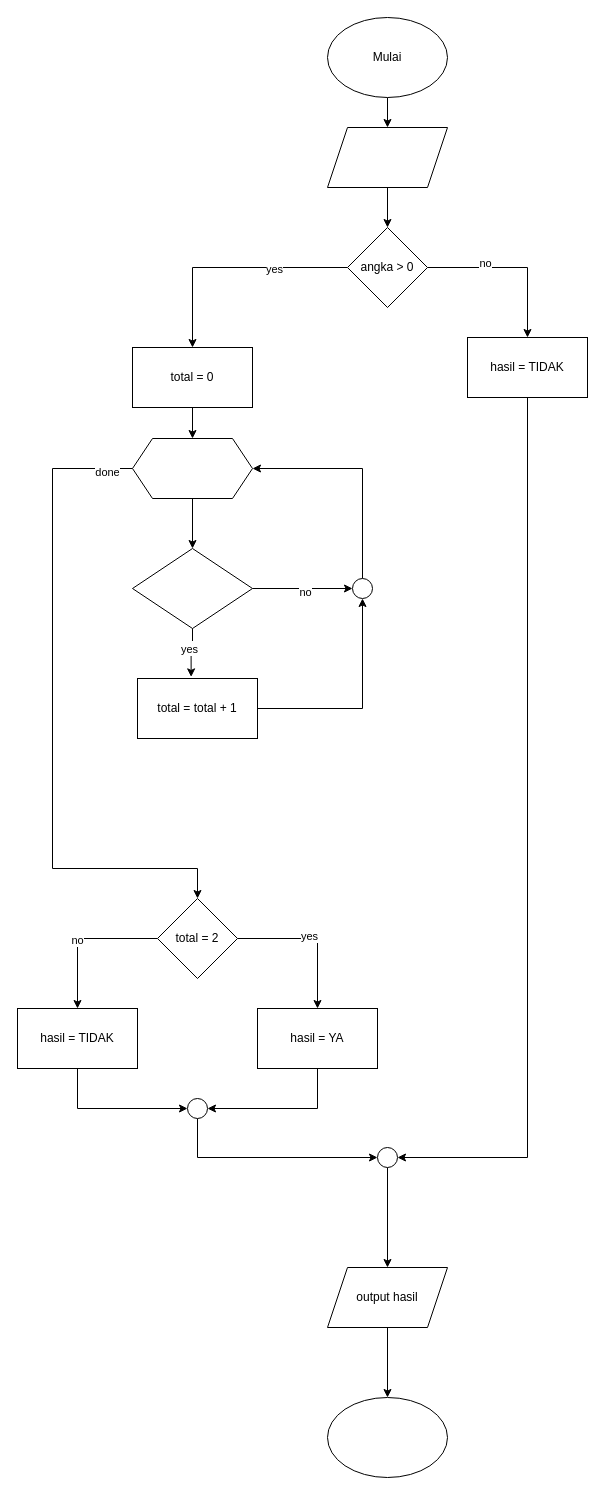
Image size: 605x1495. Some labels were removed from this diagram. The centre of each missing label's shape, as x and y in pixels:
"angka % x == 0" belongs at (192,588).
"END" belongs at (387,1437).
"input angka" belongs at (387,157).
"x = 1 to angka" belongs at (192,468).
